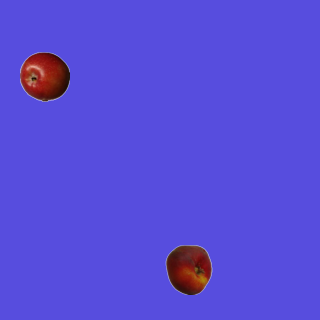Apple Braeburn: (19, 51, 69, 101)
Nectarine Flat: (163, 244, 213, 294)
